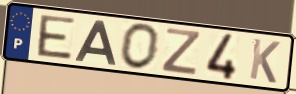4: (204, 32, 239, 81)
A: (73, 19, 118, 68)
E: (37, 13, 78, 61)
K: (247, 37, 282, 86)
O: (119, 21, 162, 72)
Z: (159, 26, 203, 77)
